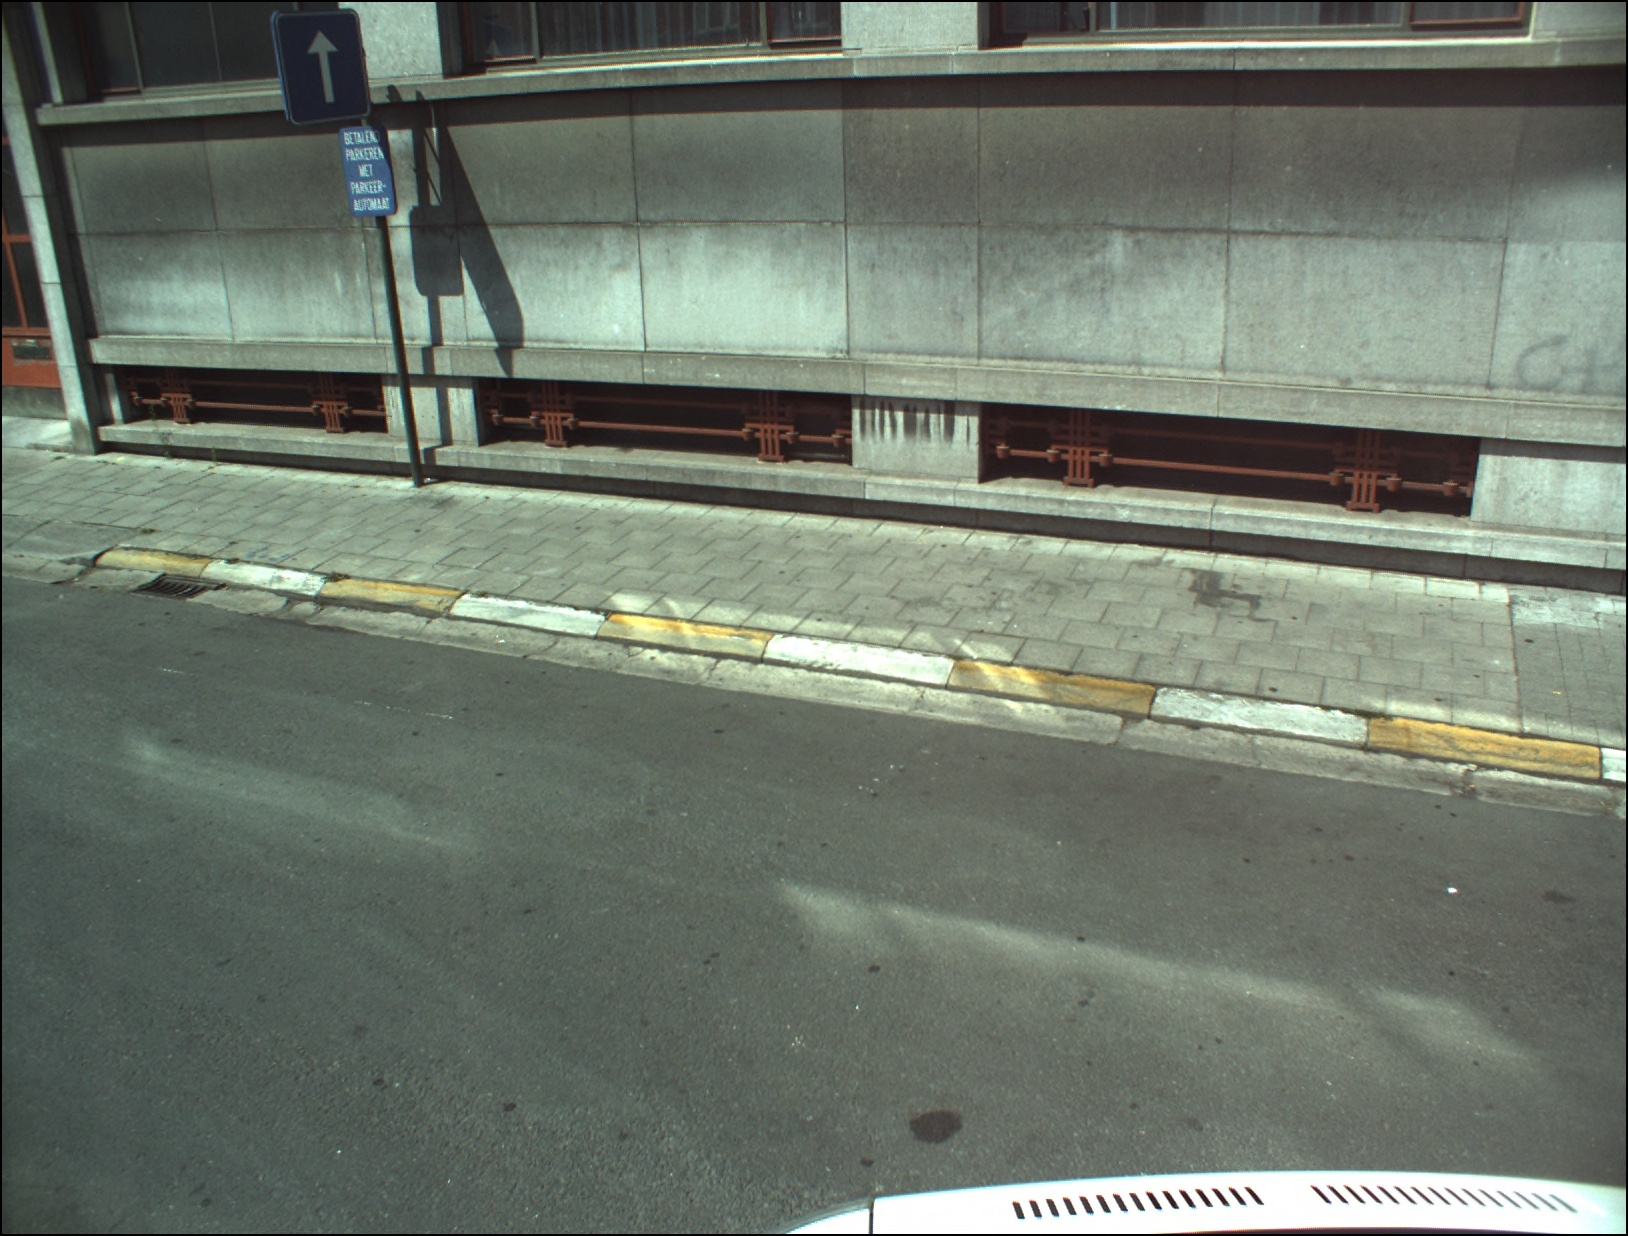oneway: (271, 13, 370, 125)
